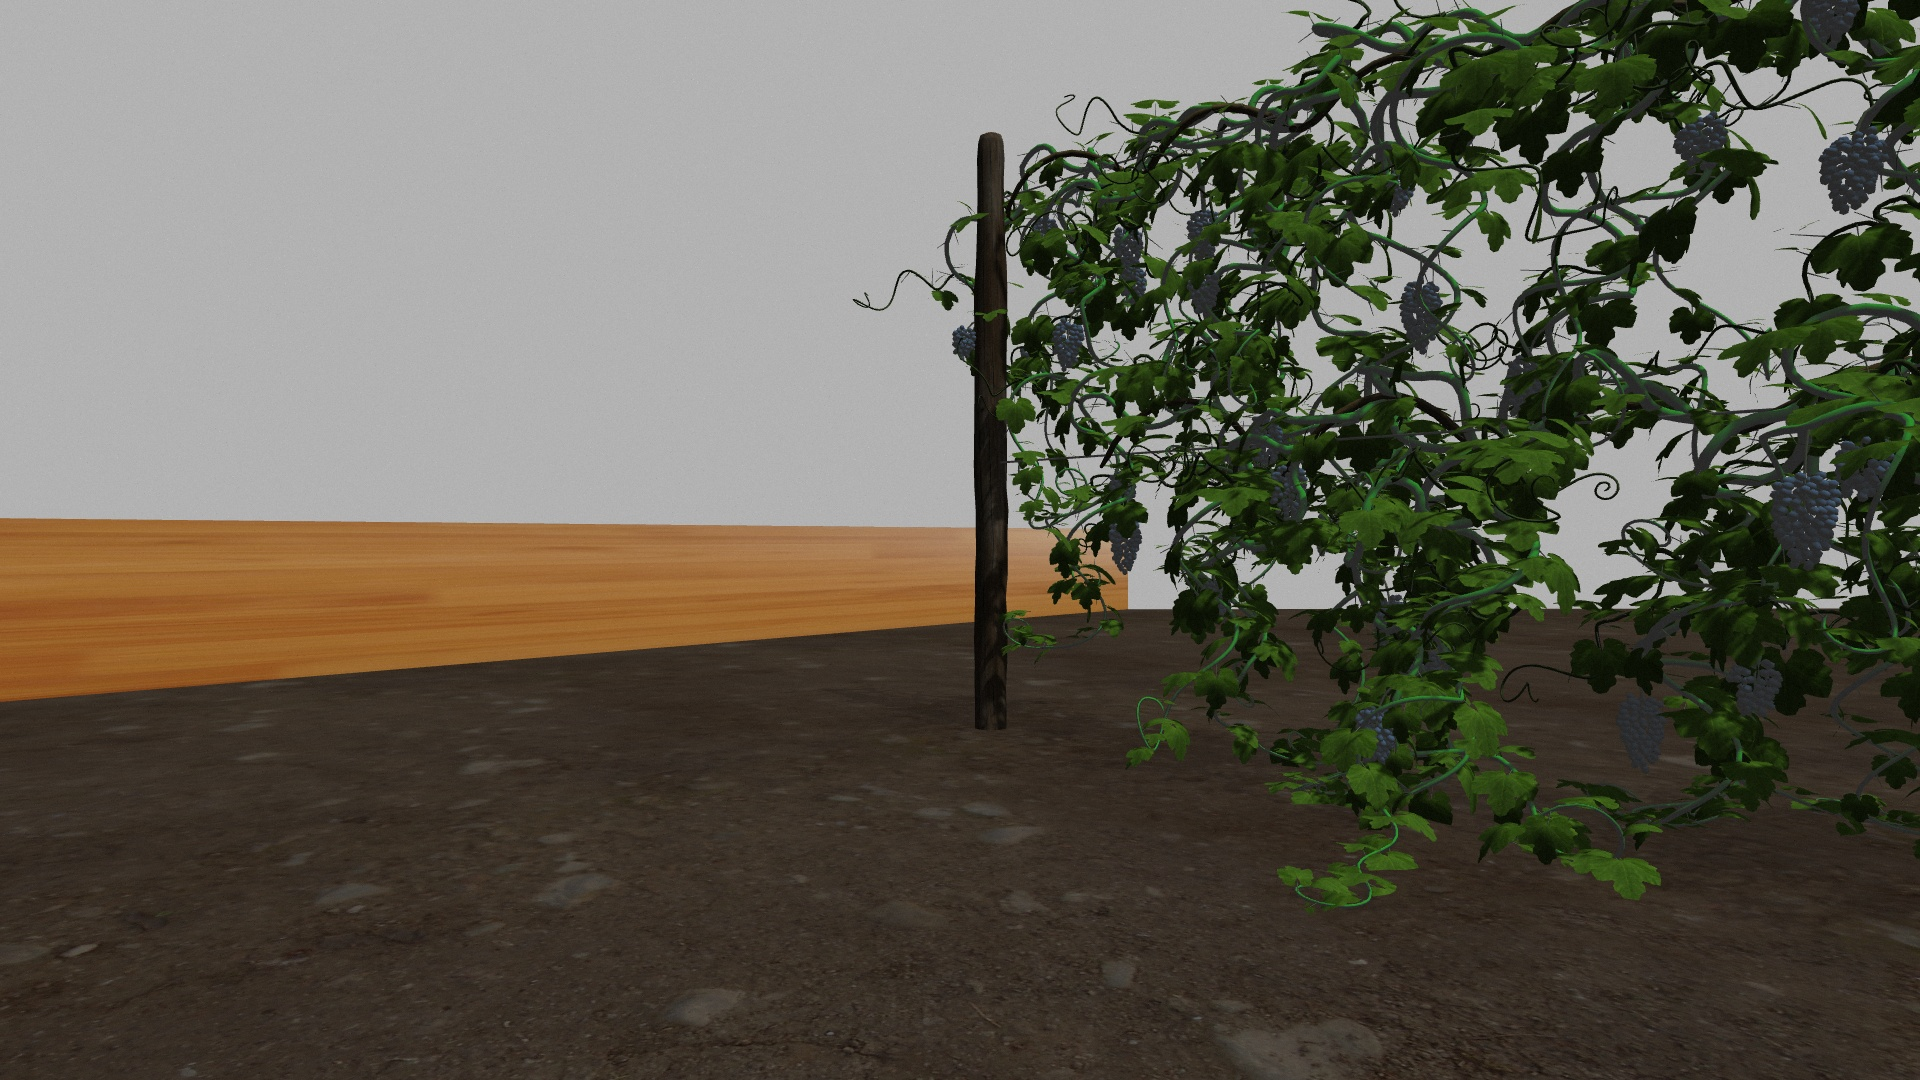grape: (1768, 469, 1844, 571), (1818, 133, 1888, 214), (1615, 691, 1668, 775), (1834, 438, 1891, 502), (1726, 659, 1783, 721), (1399, 280, 1443, 353), (1673, 115, 1727, 171), (1356, 709, 1396, 764), (1807, 7, 1858, 47), (1273, 465, 1308, 524), (1106, 521, 1143, 574), (1246, 419, 1284, 469), (1185, 208, 1221, 261), (1052, 316, 1085, 372), (1185, 272, 1220, 313), (1112, 228, 1143, 266), (1120, 266, 1149, 301), (949, 324, 976, 361)
